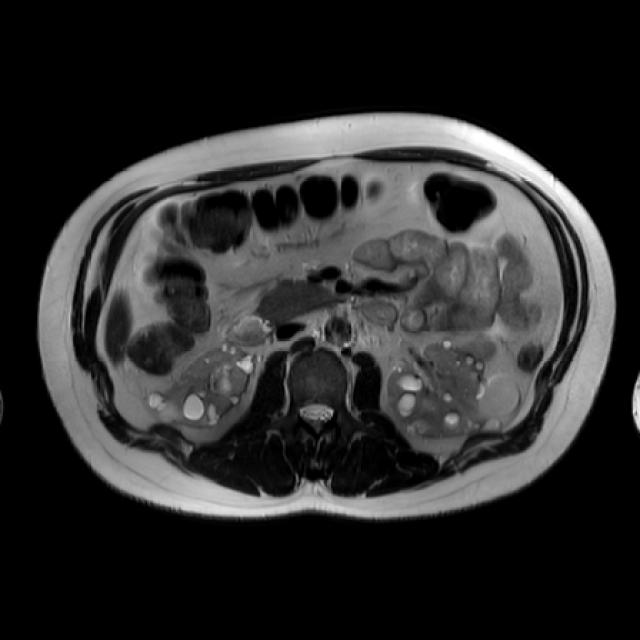sag: (150, 346, 253, 428)
sol: (389, 335, 518, 437)
